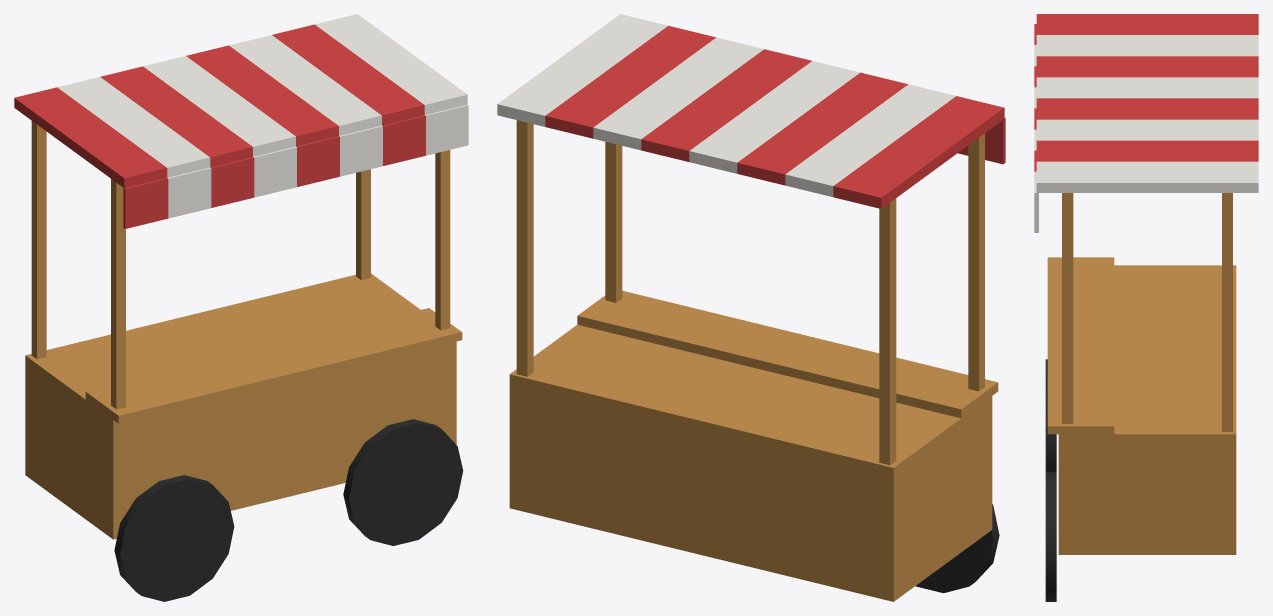
File: food_stall_cart.glb
3 renders of one model, left to right at view 1: azimuth 30°, elevation 25°; view 2: azimuth 150°, elevation 25°; view 3: azimuth 270°, elevation 25°, orthographic. The views are drawn at different scales.
Visible parts, largest first — view 1: stall_cart; view 2: stall_cart; view 3: stall_cart.
Boxes of the visible parts, x1,y1,x2,y2 form: stall_cart: [14, 14, 468, 601]; stall_cart: [497, 14, 1005, 601]; stall_cart: [1034, 14, 1258, 601].
Size of the model in its own units: 1.8 by 2.19 by 1.01.
